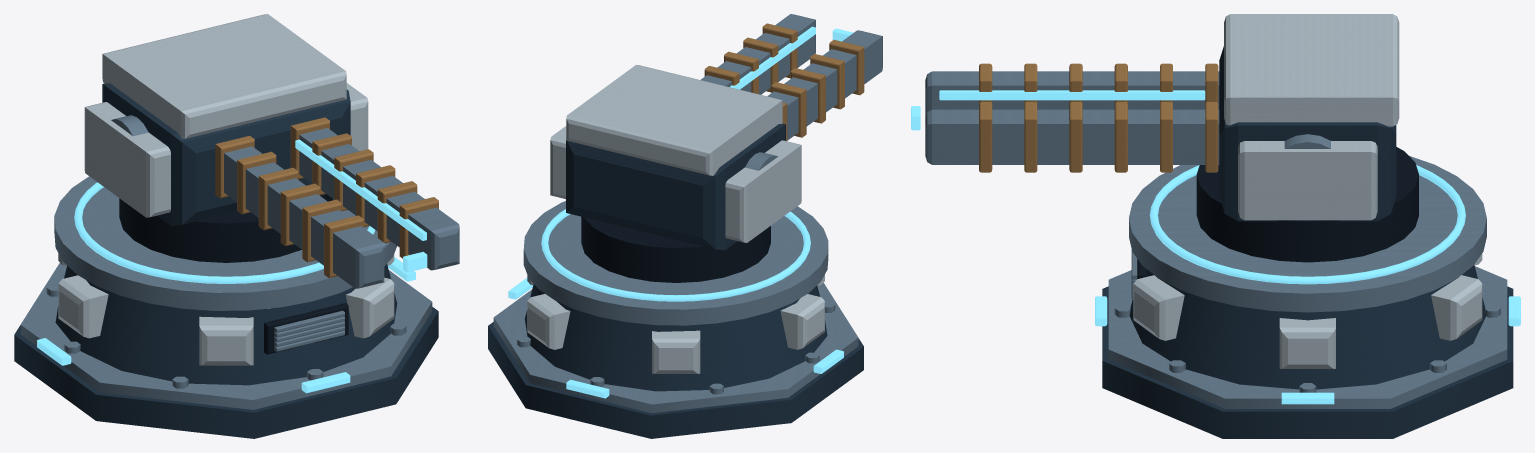
The model's file is sniper.glb.
3 views of the same model, side by side, from view 1: azimuth 30°, elevation 25°; view 2: azimuth 150°, elevation 25°; view 3: azimuth 270°, elevation 25° (orthographic). The views are drawn at different scales.
Visible parts, largest first — view 1: Brushed titanium (×3), Graphite composite (×2), Ceramic titanium armor (×2), Copper heat exchanger, Carbon machinery, Status light (×3); view 2: Graphite composite (×2), Brushed titanium (×2), Ceramic titanium armor (×2), Carbon machinery, Copper heat exchanger, Status light (×3); view 3: Brushed titanium (×3), Graphite composite (×2), Ceramic titanium armor (×2), Carbon machinery, Status light (×3), Copper heat exchanger.
Part boxes in pixels (x1,y1,x2,y2): Brushed titanium (×3): [20, 115, 459, 409]; Graphite composite (×2): [14, 83, 438, 438]; Ceramic titanium armor (×2): [58, 14, 394, 365]; Copper heat exchanger: [215, 117, 438, 277]; Carbon machinery: [119, 194, 348, 354]; Status light (×3): [37, 139, 426, 393]; Graphite composite (×2): [488, 123, 863, 438]; Brushed titanium (×2): [493, 14, 882, 413]; Ceramic titanium armor (×2): [527, 65, 824, 373]; Carbon machinery: [581, 216, 770, 282]; Copper heat exchanger: [704, 23, 864, 141]; Status light (×3): [508, 26, 843, 398]; Brushed titanium (×3): [925, 71, 1507, 408]; Graphite composite (×2): [1102, 46, 1513, 438]; Ceramic titanium armor (×2): [1133, 14, 1482, 368]; Carbon machinery: [1137, 147, 1418, 278]; Status light (×3): [939, 90, 1520, 404]; Copper heat exchanger: [979, 63, 1218, 172].
Bounding box in the file's own units: 2.26 × 1.73 × 3.23.
Materials: 7 (6 with a texture image).
